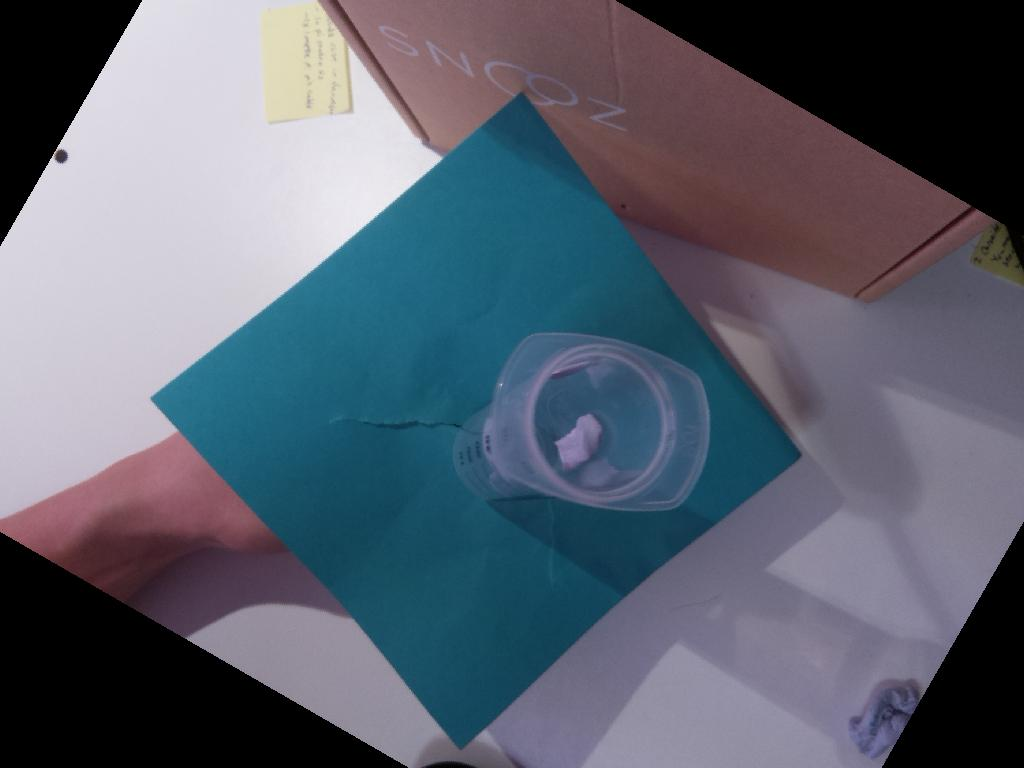dirty: (490, 333, 713, 513)
